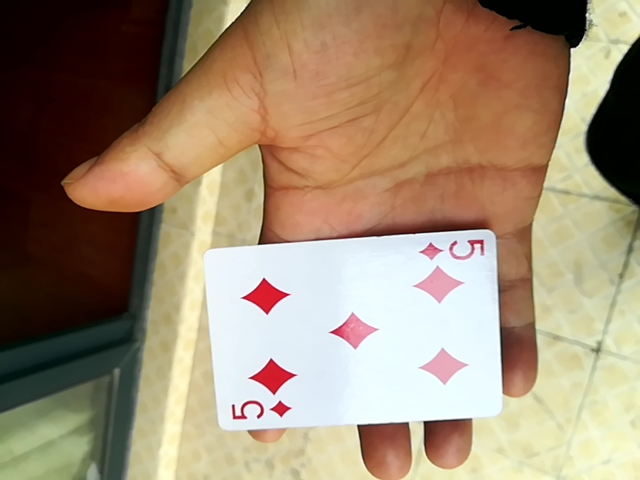fk 5: (199, 232, 504, 433)
